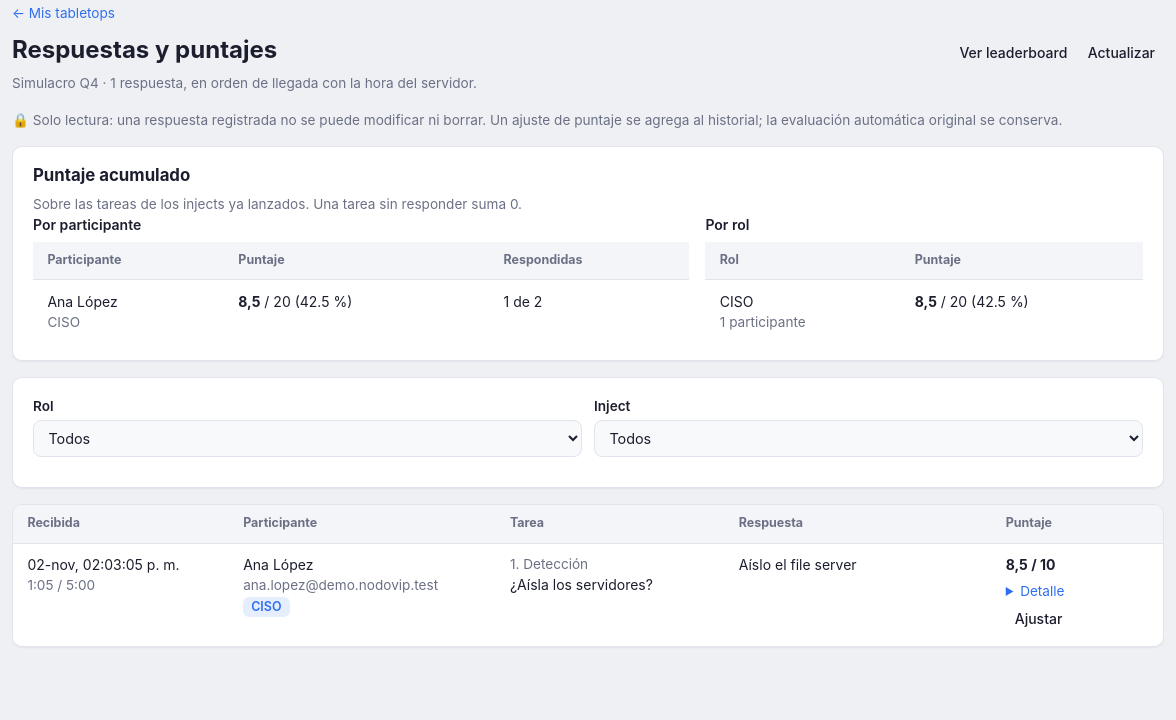
Test: Registro de respuestas de la sesión › muestra los errores del ajuste
Expected: the text "Aíslo el file server" is shown, [724,543,991,646]
Click the button "Ajustar". click: [1038, 618]
box: [1006,601,1071,635]
(page scrolled)
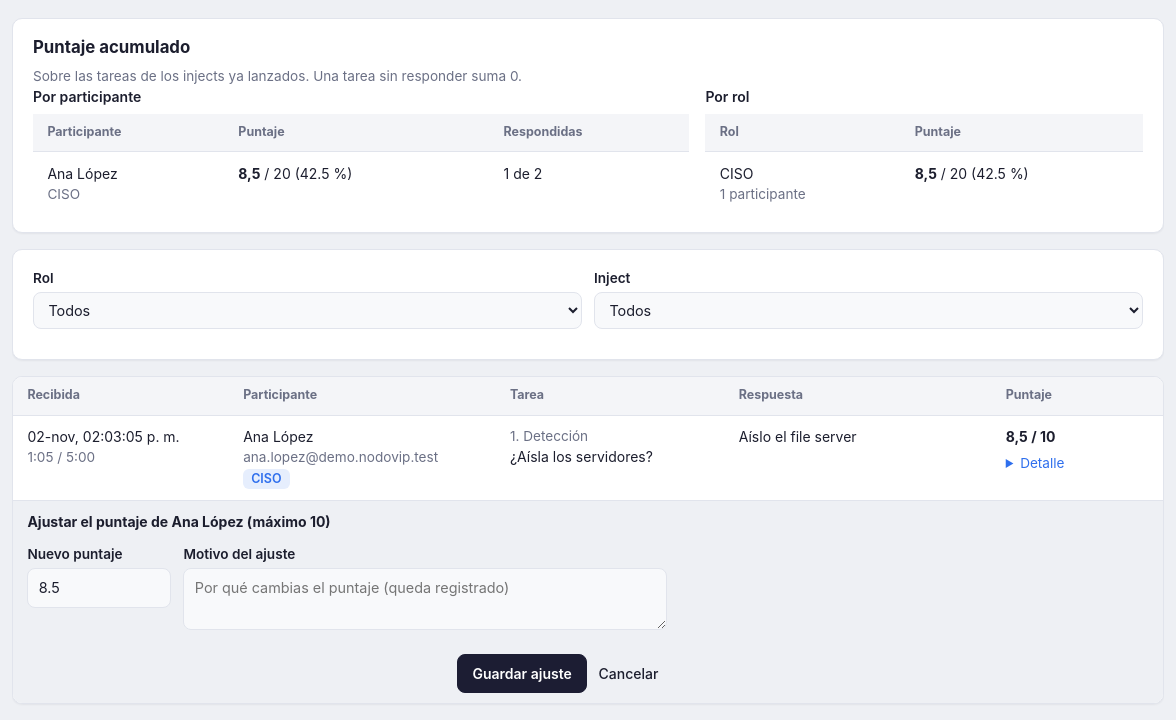
Type "Motivo largo" into the text box labelled "Motivo del ajuste". click: [425, 599]
box: [183,568,667,630]
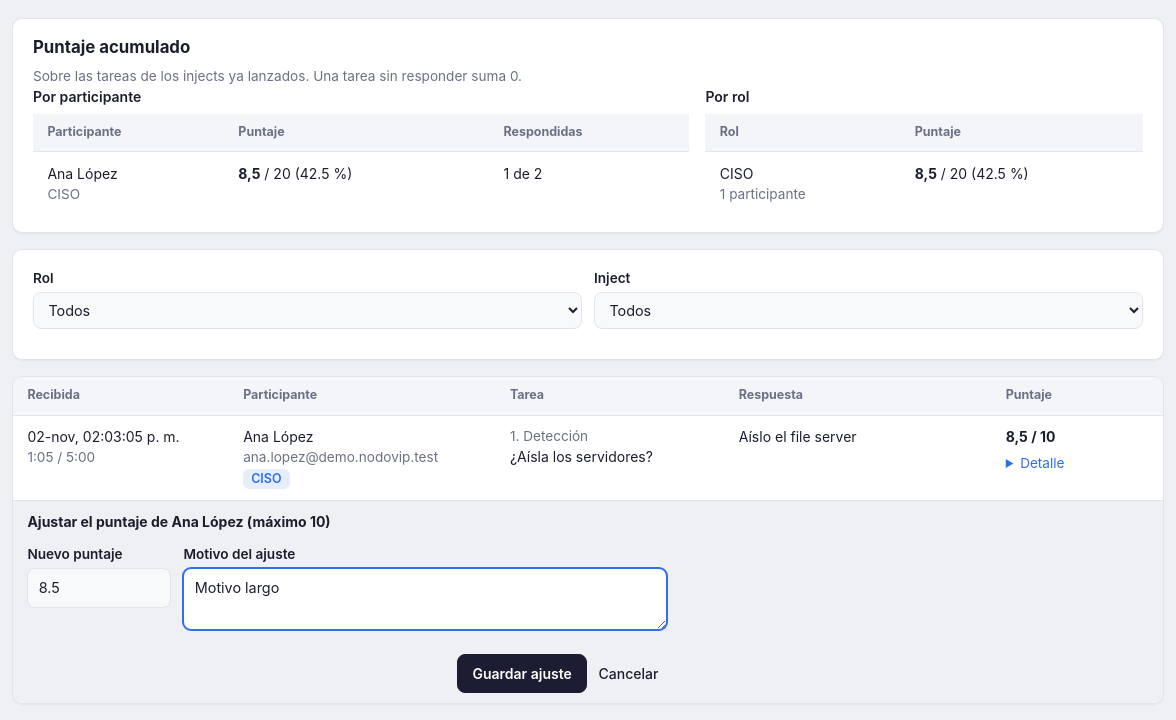
Click the button "Guardar ajuste". click: [522, 673]
box: [457,654,587,692]
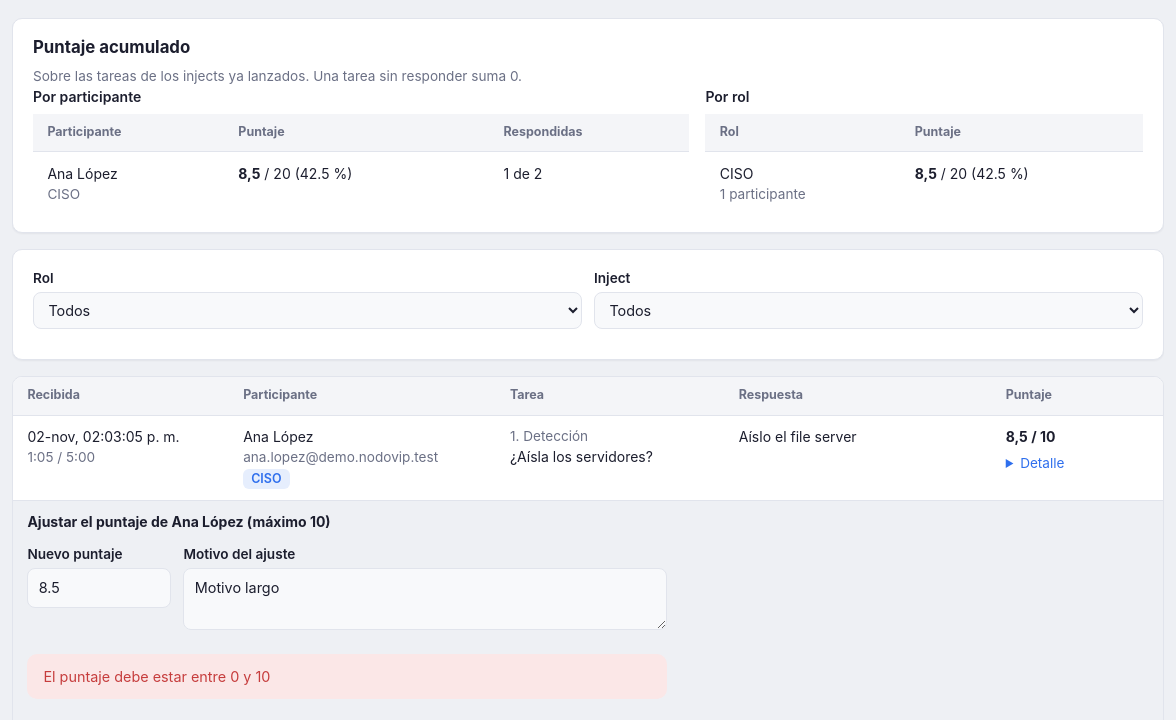
Expected: the text "El puntaje debe estar entre 0 y 10" is shown, [27,654,667,699]
